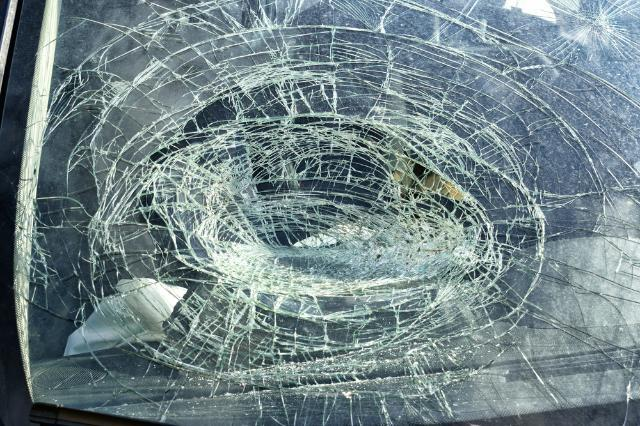glass shatter: (13, 0, 640, 426)
